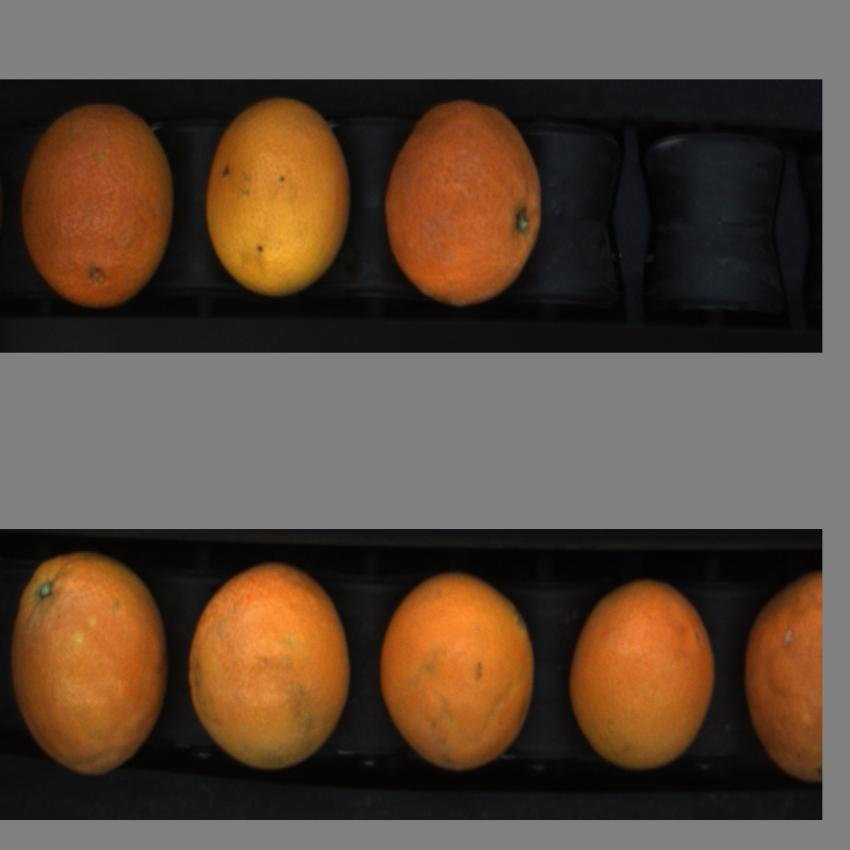Buen estado: (186, 560, 357, 773), (379, 98, 550, 309), (9, 552, 166, 778), (20, 98, 175, 311), (378, 571, 538, 776), (574, 572, 721, 793), (208, 98, 352, 299)
Mal estado: (744, 568, 822, 796)
